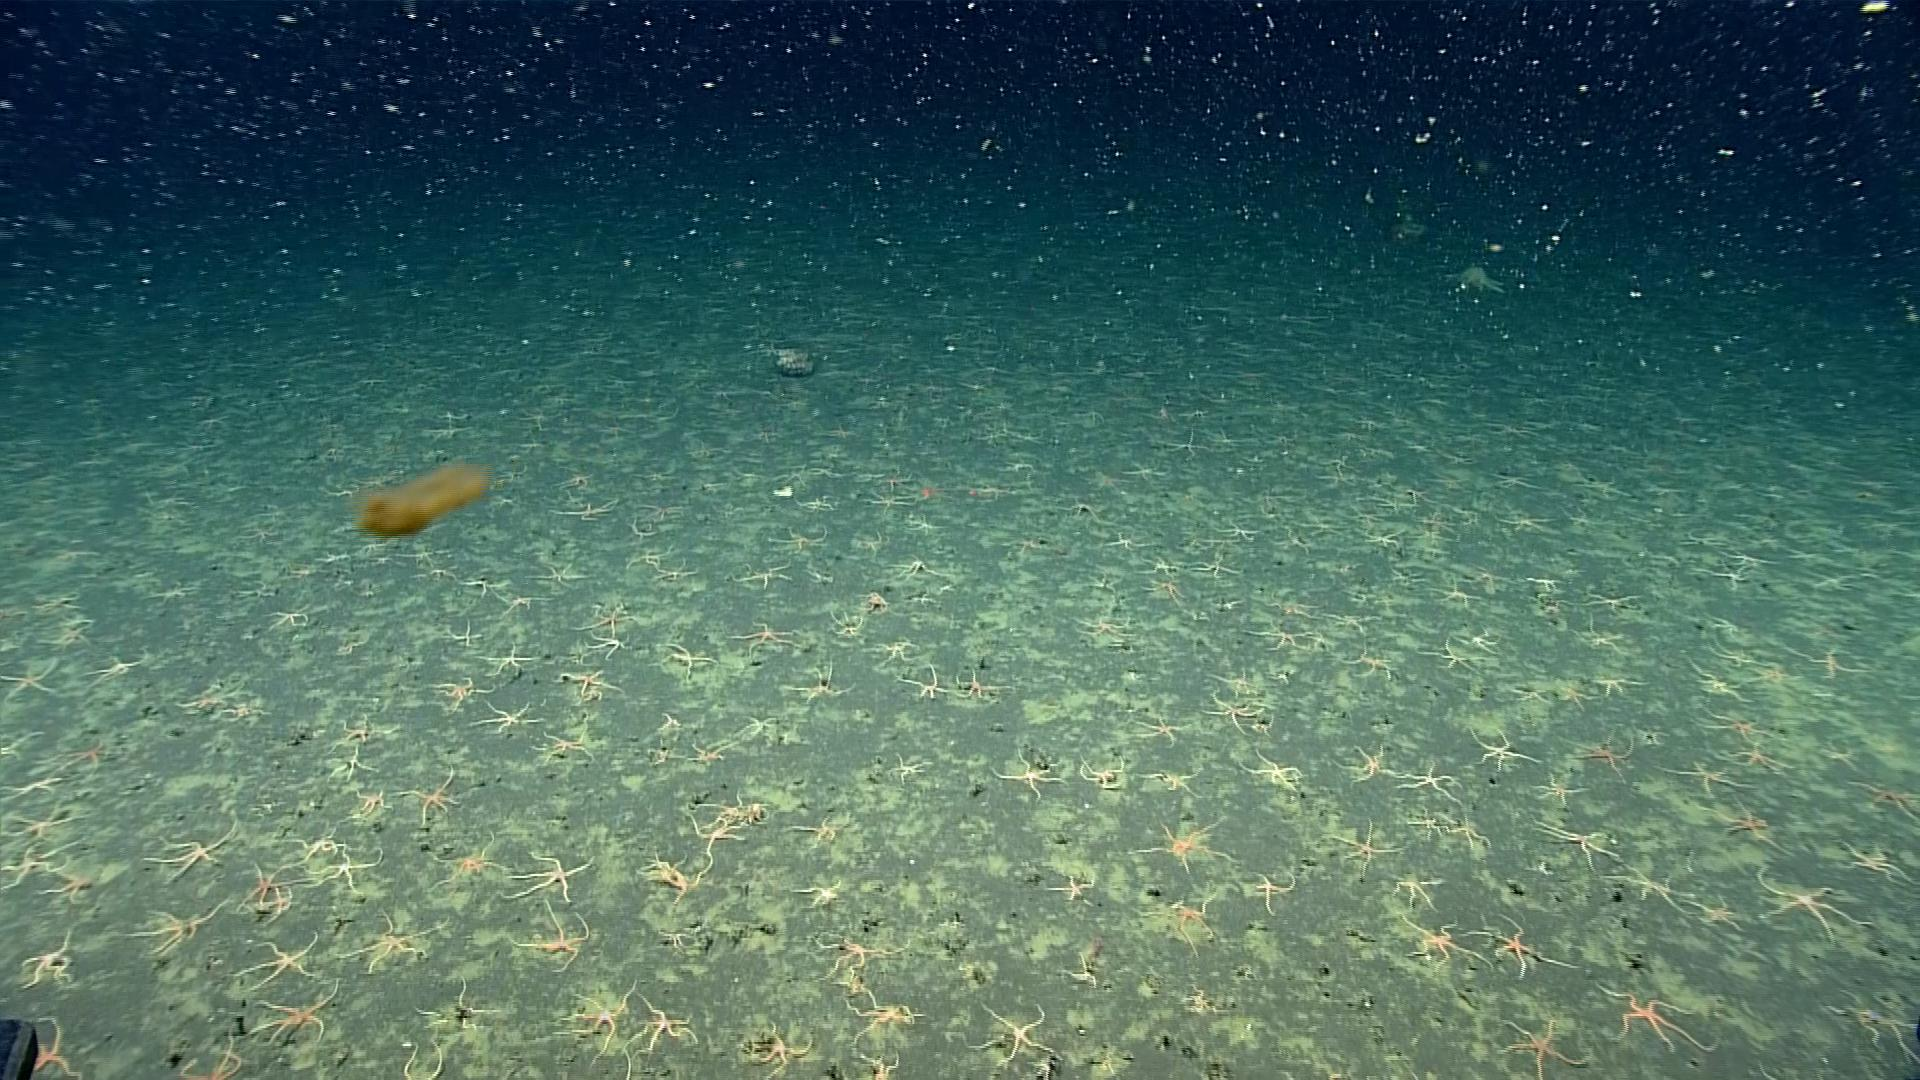brittle_sea_star: (1597, 982, 1710, 1052), (1758, 878, 1870, 947), (553, 975, 637, 1059), (335, 914, 446, 976), (1466, 915, 1572, 978), (129, 895, 236, 957), (248, 980, 344, 1048), (968, 1002, 1062, 1067), (1832, 994, 1919, 1062), (513, 898, 589, 975), (1705, 794, 1797, 857), (1498, 1014, 1588, 1077), (1127, 820, 1234, 872), (239, 930, 324, 993), (411, 977, 501, 1036), (1398, 911, 1487, 968), (804, 932, 901, 985), (144, 827, 232, 884), (505, 848, 593, 905), (1156, 890, 1229, 959), (393, 766, 468, 829), (628, 993, 700, 1055), (427, 832, 502, 891), (1534, 822, 1622, 872), (0, 843, 90, 891), (1611, 858, 1692, 913), (636, 848, 707, 907), (993, 745, 1068, 799), (1324, 818, 1404, 868), (1832, 836, 1909, 886), (301, 849, 384, 895), (683, 806, 746, 865), (844, 989, 920, 1038), (1462, 727, 1543, 771), (744, 1022, 811, 1073), (1662, 757, 1754, 794), (20, 930, 78, 988), (781, 659, 853, 705), (1571, 735, 1636, 785), (1792, 642, 1871, 682), (236, 860, 290, 914), (32, 1011, 76, 1076), (0, 658, 69, 700), (1331, 742, 1399, 785), (0, 806, 84, 840), (1395, 760, 1461, 803), (1698, 702, 1772, 740), (1420, 634, 1491, 674), (728, 618, 800, 657), (1849, 775, 1917, 815), (1386, 866, 1449, 907), (1238, 753, 1308, 790), (1208, 688, 1263, 735), (472, 698, 538, 736), (555, 665, 621, 703), (289, 822, 343, 868), (196, 1031, 248, 1079), (477, 642, 543, 679), (654, 640, 713, 678), (537, 725, 597, 762), (1727, 742, 1789, 778), (728, 708, 790, 744), (711, 791, 771, 825), (396, 1040, 450, 1079), (1689, 895, 1747, 931), (793, 874, 845, 913), (1524, 773, 1585, 806), (1273, 1051, 1344, 1079), (430, 674, 492, 705), (1133, 711, 1187, 746), (1254, 872, 1299, 914), (1211, 663, 1267, 696), (786, 811, 840, 845), (1249, 620, 1309, 650), (1137, 764, 1200, 793), (1445, 814, 1493, 852), (1044, 870, 1097, 905), (855, 1038, 898, 1079), (585, 628, 644, 658), (41, 872, 98, 902), (952, 667, 1002, 702), (1576, 620, 1627, 653), (899, 663, 944, 700), (575, 1052, 634, 1079), (1069, 613, 1129, 640), (1079, 758, 1127, 790), (87, 653, 140, 682), (737, 560, 790, 589), (580, 616, 630, 646), (1431, 579, 1482, 608), (546, 500, 612, 522), (177, 687, 229, 715), (324, 749, 372, 779), (885, 752, 930, 783), (1352, 645, 1393, 679), (769, 527, 827, 551), (0, 775, 65, 796), (1138, 576, 1189, 603), (493, 591, 546, 616), (1408, 807, 1448, 840), (334, 717, 385, 742), (1139, 553, 1185, 580), (1589, 674, 1648, 695), (1063, 951, 1098, 985), (351, 786, 386, 819), (1824, 742, 1862, 773), (873, 636, 916, 662), (71, 740, 111, 769), (1589, 589, 1638, 612), (894, 553, 932, 580), (680, 742, 725, 765), (1706, 568, 1751, 591), (1101, 527, 1141, 553), (827, 613, 866, 638), (621, 547, 667, 568), (1461, 626, 1498, 653), (269, 607, 309, 629), (1197, 554, 1237, 576), (1220, 521, 1259, 543), (459, 575, 506, 593), (1555, 686, 1590, 709), (448, 622, 479, 650), (224, 698, 261, 720), (862, 593, 897, 617), (152, 583, 198, 600), (1361, 530, 1403, 547), (897, 513, 938, 530), (655, 712, 682, 735), (647, 744, 673, 762)
